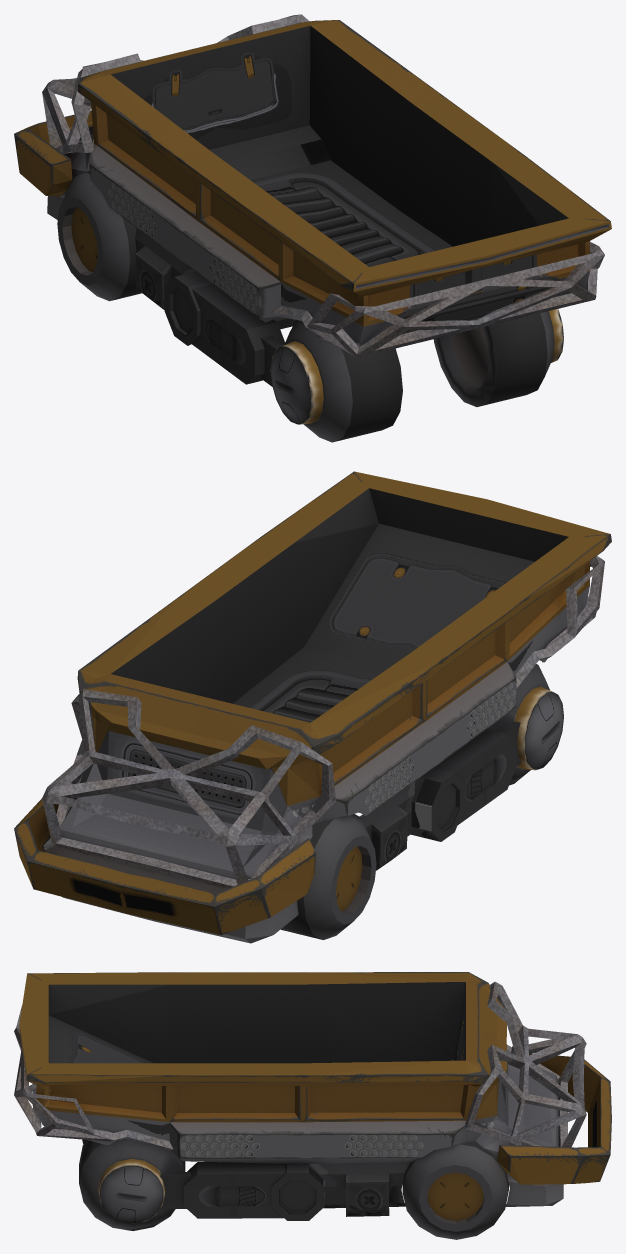
File: lorry-1.glb
3 renders of one model, top to bottom at view 1: azimuth 30°, elevation 25°; view 2: azimuth 150°, elevation 25°; view 3: azimuth 270°, elevation 25°, orthographic. The views are drawn at different scales.
Visible parts, largest first — view 1: Cube.001, Cylinder.001, Cube.002, Cube.003, Cylinder; view 2: Cube.001, Cube.002, Cube.003, Cylinder, Cylinder.001; view 3: Cube.001, Cube.003, Cube.002, Cylinder, Cylinder.001.
Boxes of the visible parts, box(x1,y1,x2,y2) form: Cube.001: box(14, 20, 611, 346); Cylinder.001: box(284, 311, 554, 442); Cube.002: box(42, 14, 604, 357); Cube.003: box(164, 272, 563, 424); Cylinder: box(57, 171, 141, 301); Cube.001: box(14, 471, 611, 943); Cube.002: box(42, 556, 604, 888); Cube.003: box(358, 686, 563, 841); Cylinder: box(80, 763, 376, 939); Cylinder.001: box(487, 664, 550, 785); Cube.001: box(19, 972, 611, 1216); Cube.003: box(98, 1159, 324, 1223); Cube.002: box(14, 981, 586, 1150); Cylinder: box(402, 1141, 508, 1239); Cylinder.001: box(79, 1138, 185, 1230).
Size of the model in its own units: 2.42 by 1.79 by 5.66.
2 materials, 1 textured.
